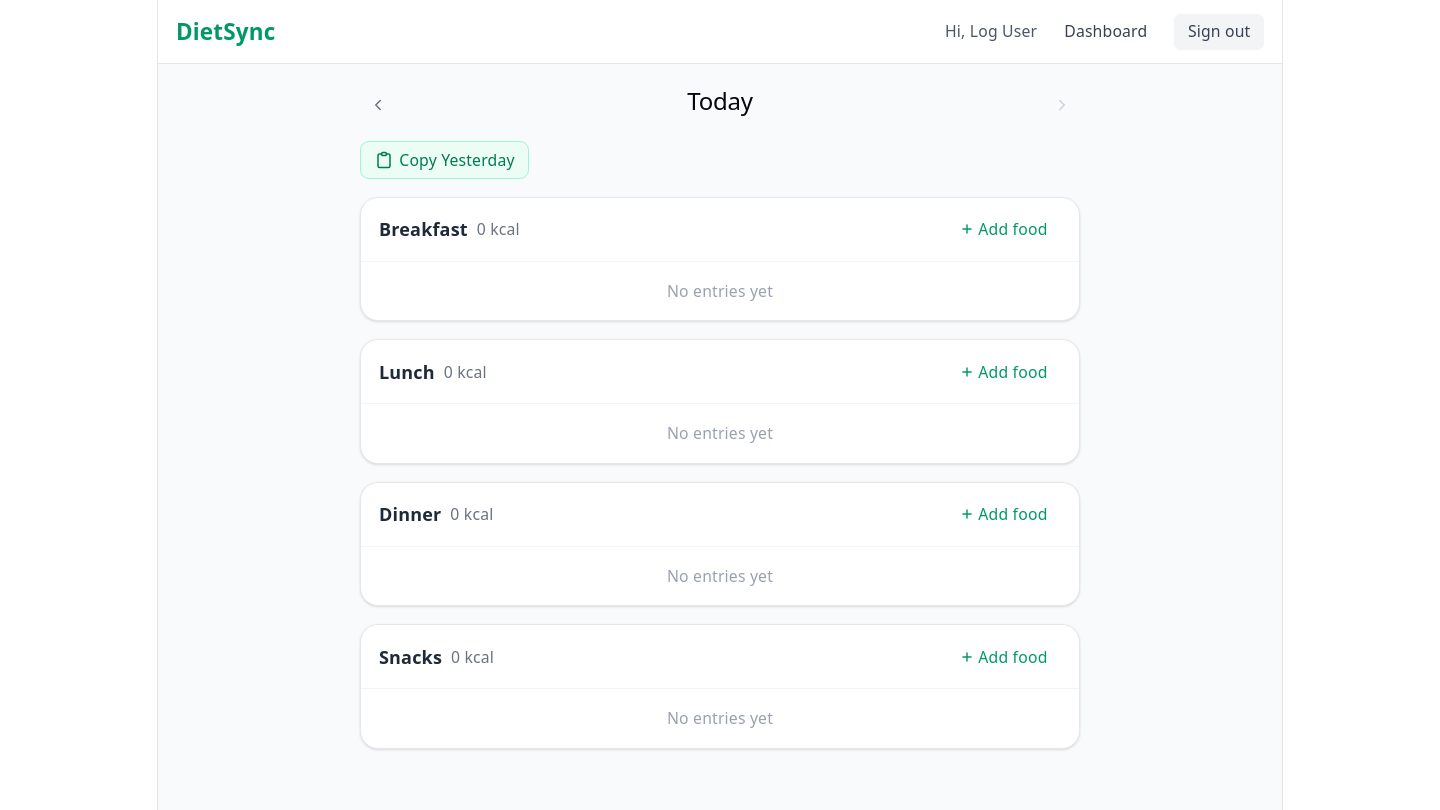
Scenario: FoodSearchModal — search results › searching a nonsense string shows empty results
This screenshot has width=1440, height=810.
Click the button with aria-label "add food to breakfast" at (1004, 229), box [946,211,1061,247]
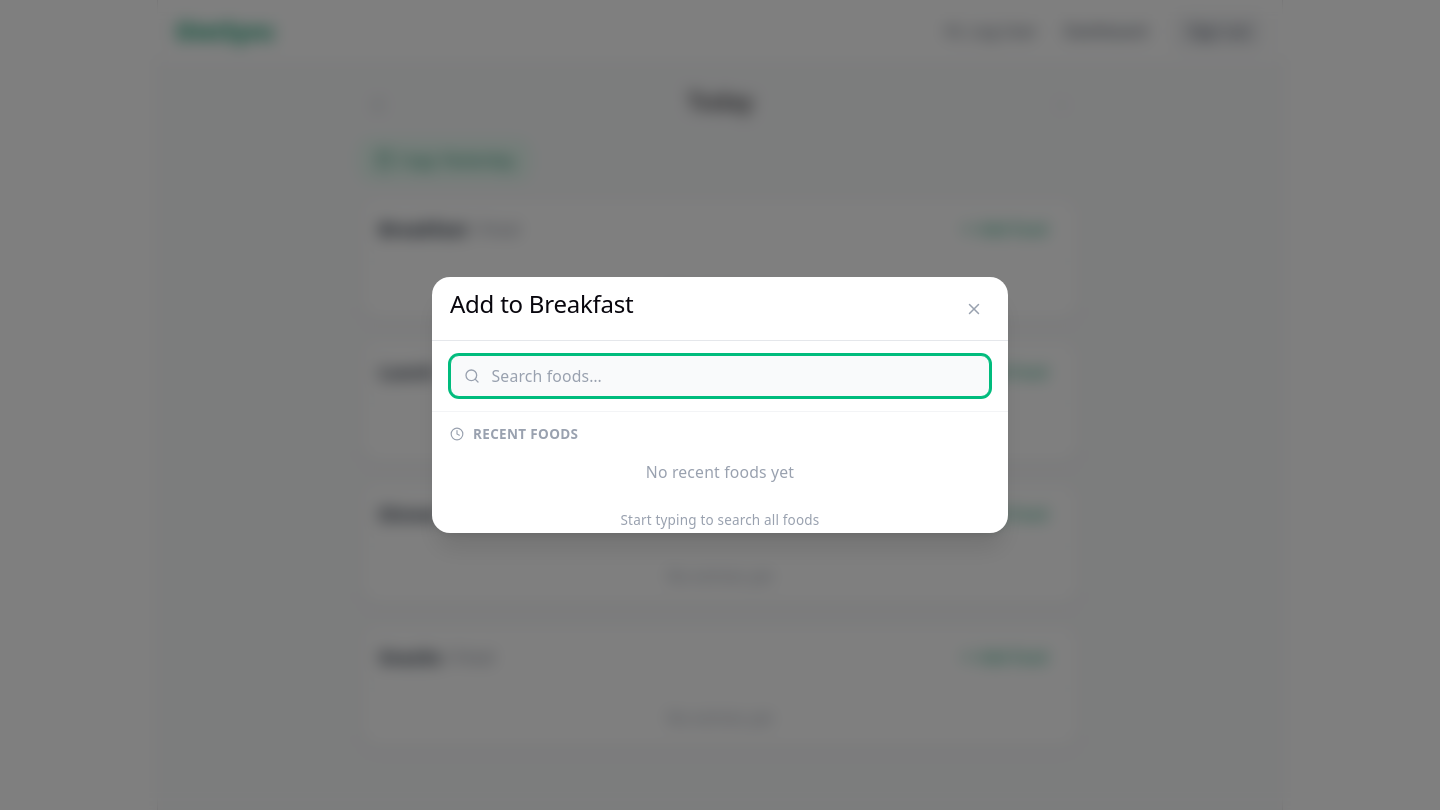
Type "zzz_no_such_food_xyzqwerty" into the search field labelled "Search foods…" at (720, 376), box [450,355,990,397]
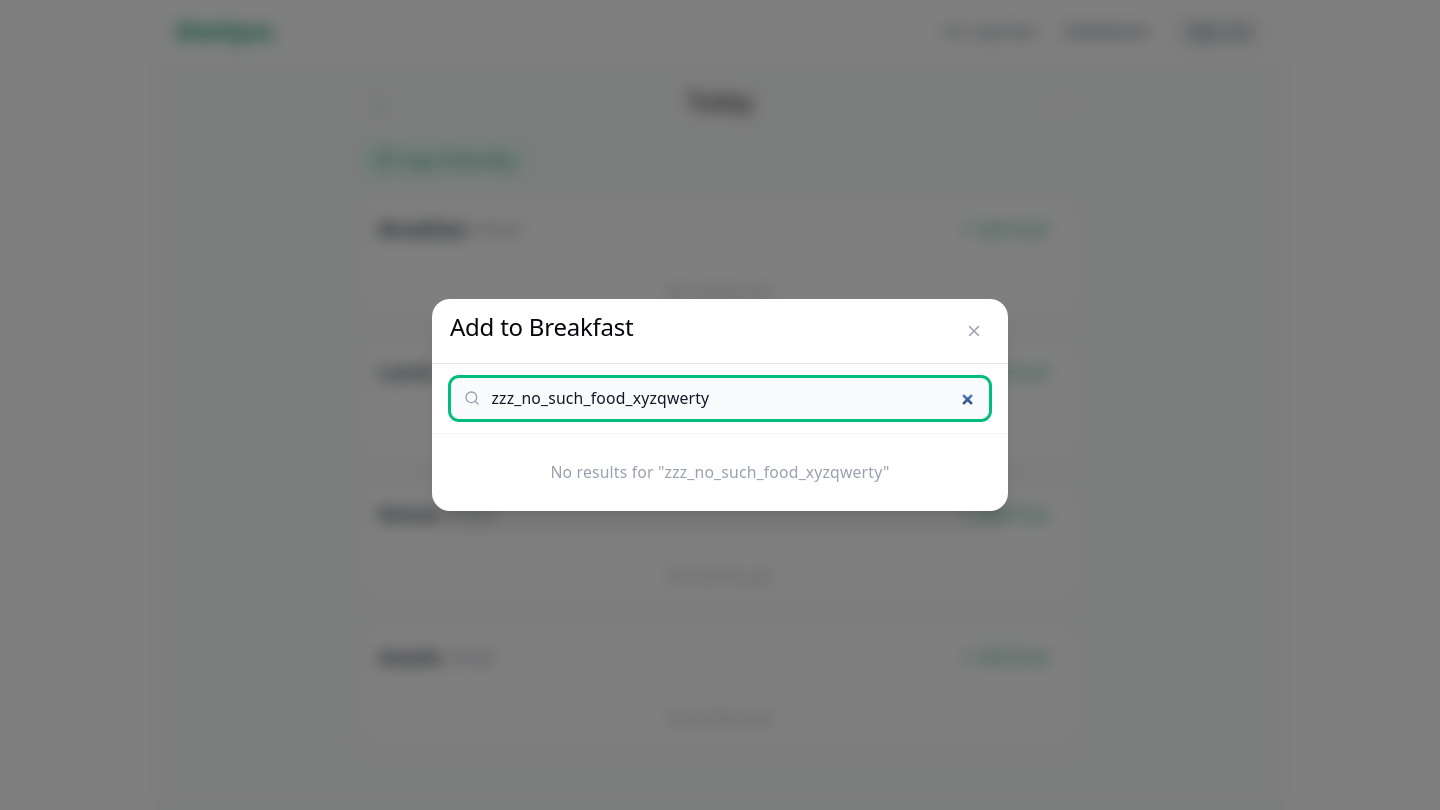
Expected: the text "No results for \"zzz_no_such_food_xyzqwerty\"" is shown, [550,461,890,483]
